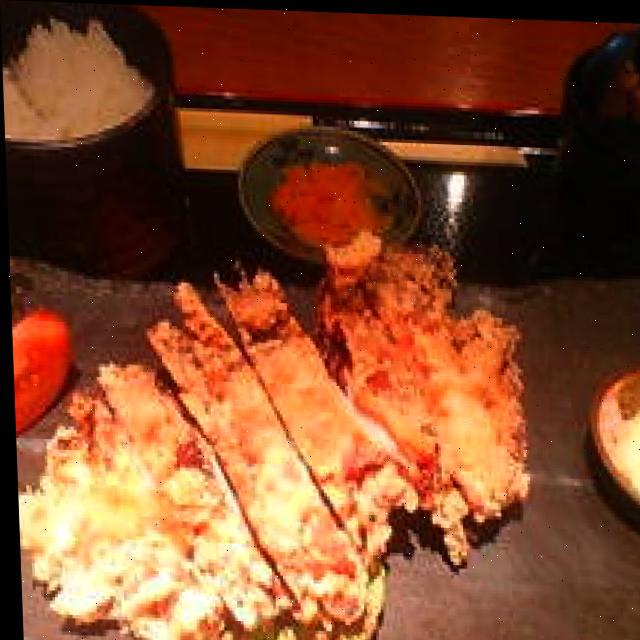鸡肉料理 含炸鸡: (6, 206, 559, 640)
